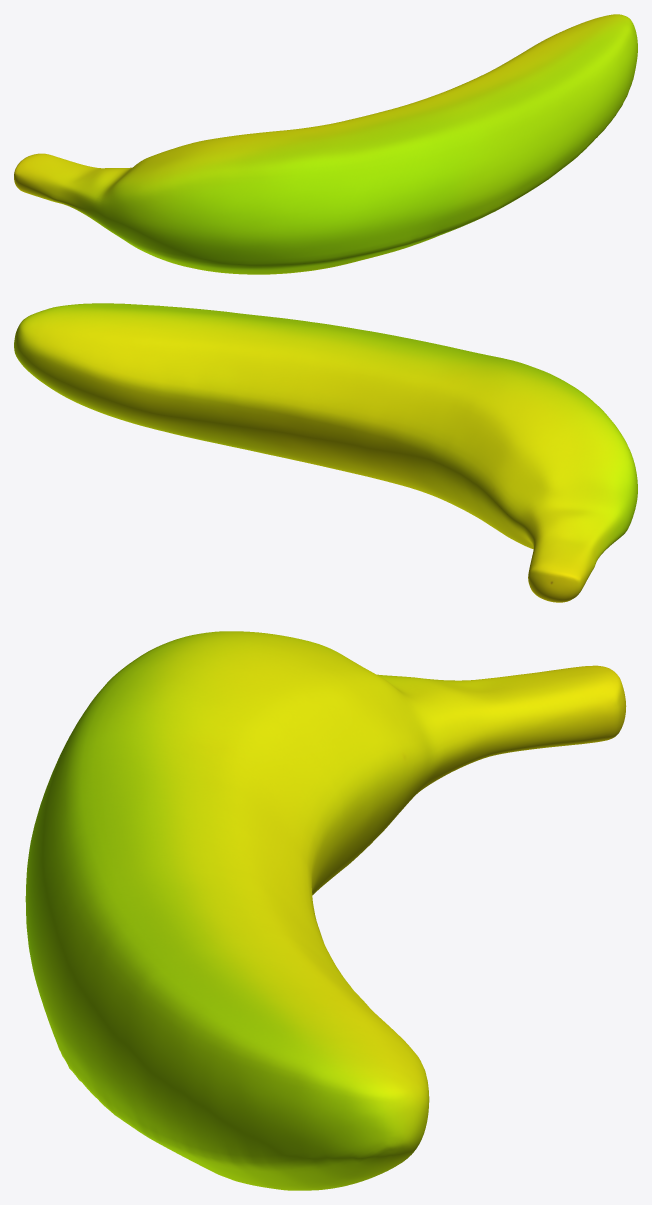
The model's file is banana.glb.
The picture shows the model from 3 angles, top to bottom: view 1: azimuth 30°, elevation 25°; view 2: azimuth 150°, elevation 25°; view 3: azimuth 270°, elevation 25°; orthographic projection. The views are drawn at different scales.
Visible parts, largest first — view 1: model; view 2: model; view 3: model.
Boxes of the visible parts, box(x1,y1,x2,y2) form: model: box(14, 14, 637, 274); model: box(14, 303, 637, 602); model: box(25, 631, 626, 1190).
Bounding box in the file's own units: 0.9511 × 0.2 × 0.4386.
Materials: 1 (1 with a texture image).
